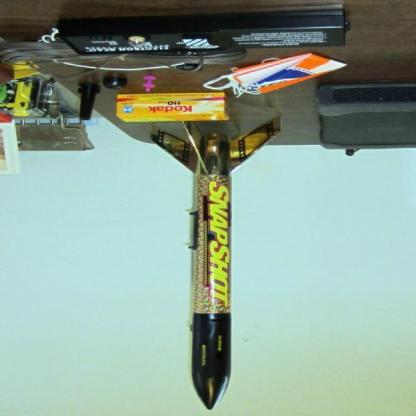MIL_TBM: (188, 130, 235, 412)
